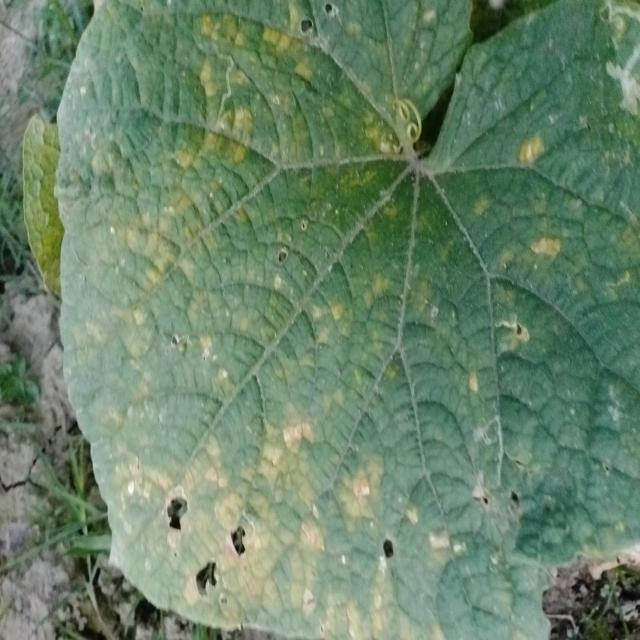cucumber_downy: (72, 0, 636, 632)
